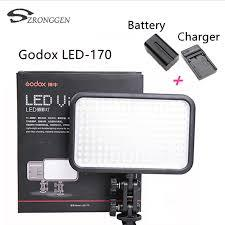Lamp: (63, 93, 197, 222)
